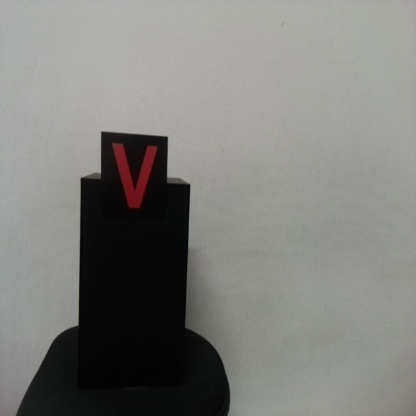id_11: (101, 133, 166, 223)
